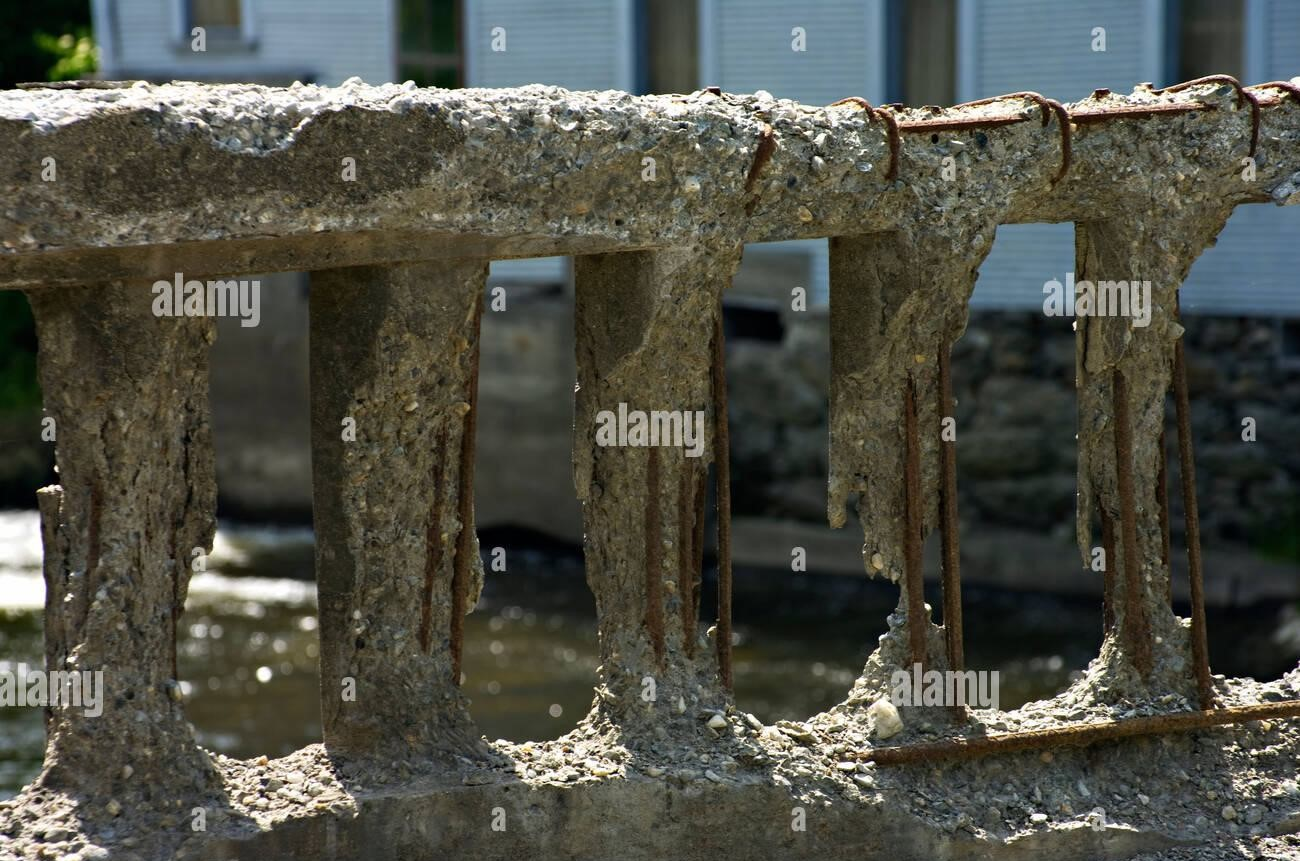Exposed reinforcement: (830, 699, 1300, 766), (1174, 287, 1214, 709), (450, 293, 484, 688), (1111, 368, 1153, 668), (937, 327, 968, 726), (711, 301, 733, 692), (903, 372, 928, 693), (413, 433, 448, 654), (646, 446, 666, 665), (947, 90, 1052, 129), (678, 446, 696, 662), (1149, 74, 1244, 112), (1066, 102, 1217, 125), (1097, 490, 1117, 636), (1156, 430, 1171, 609), (1233, 91, 1261, 176), (1047, 98, 1073, 186), (871, 107, 900, 181), (897, 118, 1030, 134), (744, 123, 774, 193), (694, 467, 707, 627), (85, 468, 105, 572), (829, 95, 874, 125), (1245, 80, 1300, 101)
Spalling: (1, 660, 1300, 861), (1, 71, 1300, 257), (303, 258, 507, 764), (25, 280, 216, 773), (572, 244, 753, 742), (832, 223, 984, 726), (1075, 194, 1222, 707)
